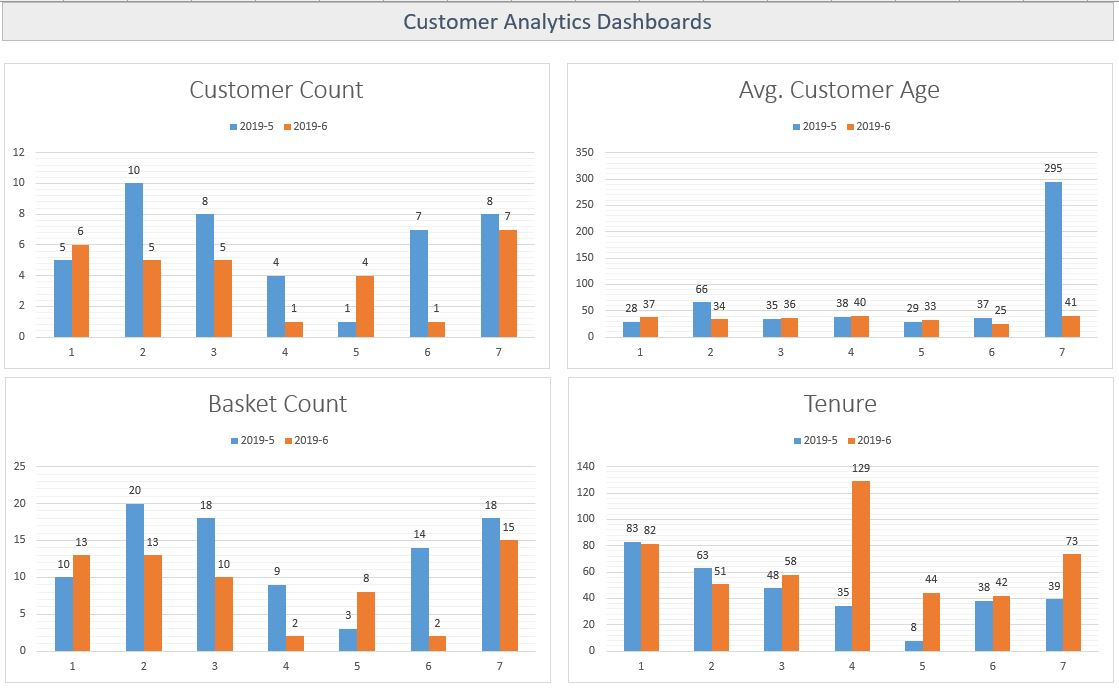

What the dashboard file says about the page in this screenshot:
{"tool":"powerbi","page":{"name":"Page 1","canvas":[1280,720],"ordinal":0},"visuals":[{"type":"textbox","box":[0,0,1280,48.6],"z":0},{"type":"clusteredColumnChart","fields":{"Category":["ecommerce_customer_combined.basket_weekday"],"Y":["ecommerce_customer_combined.Customer Count"],"Series":["ecommerce_customer_combined.basket_year_month"]},"box":[16.1,157.5,623.9,276.9],"z":1000},{"type":"clusteredColumnChart","fields":{"Category":["ecommerce_customer_combined.basket_weekday"],"Series":["ecommerce_customer_combined.basket_year_month"],"Y":["ecommerce_customer_combined.Avg Age of Customer"]},"box":[640,157.5,623.9,276.9],"z":2000},{"type":"clusteredColumnChart","fields":{"Category":["ecommerce_customer_combined.basket_weekday"],"Series":["ecommerce_customer_combined.basket_year_month"],"Y":["ecommerce_customer_combined.Avg Tenure"]},"box":[640,434.4,623.9,271.8],"z":3000},{"type":"clusteredColumnChart","fields":{"Category":["ecommerce_customer_combined.basket_weekday"],"Series":["ecommerce_customer_combined.basket_year_month"],"Y":["ecommerce_customer_combined.Total Baskets"]},"box":[16.1,434.4,623.9,271.8],"z":4000},{"type":"card","fields":{"Values":["ecommerce_customer_combined.Customer Count"]},"box":[16.1,48.2,312,109.3],"z":5000},{"type":"card","fields":{"Values":["ecommerce_customer_combined.Total Baskets"]},"box":[328,48.2,312,109.3],"z":5001},{"type":"card","fields":{"Values":["ecommerce_customer_combined.Avg Age of Customer"]},"box":[640,48.2,312,109.3],"z":5002},{"type":"card","fields":{"Values":["ecommerce_customer_combined.Avg Tenure"]},"box":[952,48.2,312,109.3],"z":5003}]}

Visuals, with their boxes on the page's 1280x720 design canvas (x1, y1, x2, y2). These are canvas units, not pixel positions in the 1119x689 screenshot, which may show the page scaled, cropped or inside an application window:
textbox: l=0, t=0, r=1280, b=49
clusteredColumnChart - ecommerce_customer_combined.basket_weekday x ecommerce_customer_combined.Customer Count: l=16, t=158, r=640, b=434
clusteredColumnChart - ecommerce_customer_combined.basket_weekday x ecommerce_customer_combined.basket_year_month: l=640, t=158, r=1264, b=434
clusteredColumnChart - ecommerce_customer_combined.basket_weekday x ecommerce_customer_combined.basket_year_month: l=640, t=434, r=1264, b=706
clusteredColumnChart - ecommerce_customer_combined.basket_weekday x ecommerce_customer_combined.basket_year_month: l=16, t=434, r=640, b=706
card - ecommerce_customer_combined.Customer Count: l=16, t=48, r=328, b=158
card - ecommerce_customer_combined.Total Baskets: l=328, t=48, r=640, b=158
card - ecommerce_customer_combined.Avg Age of Customer: l=640, t=48, r=952, b=158
card - ecommerce_customer_combined.Avg Tenure: l=952, t=48, r=1264, b=158
